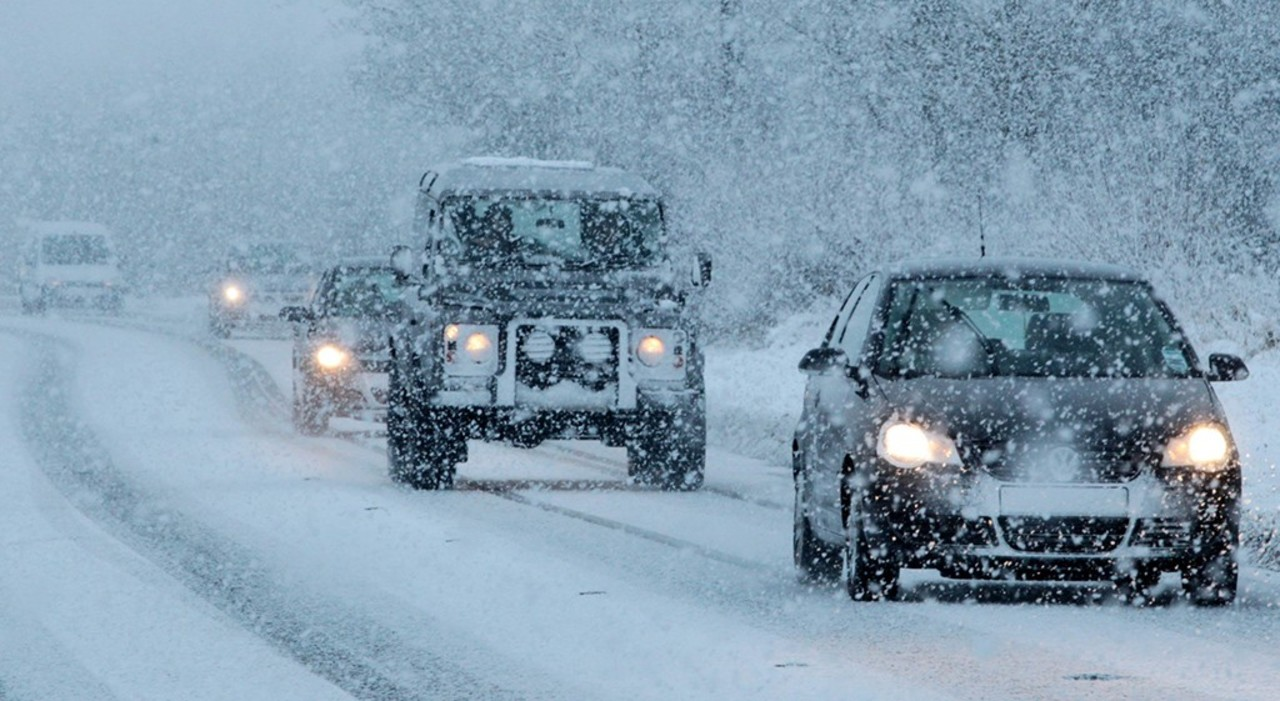car: (785, 263, 1251, 612), (393, 158, 706, 490), (283, 257, 393, 439), (205, 234, 332, 340), (18, 222, 122, 314)
